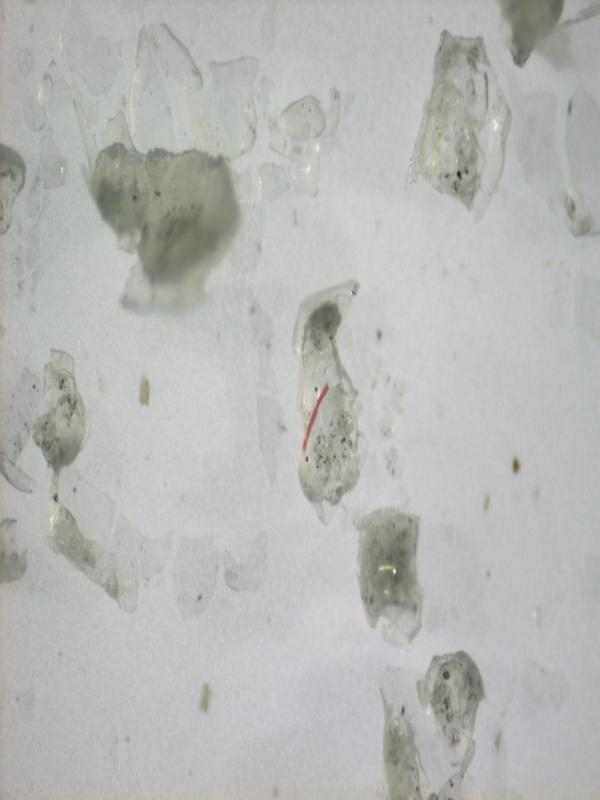microplastic: (290, 276, 365, 524)
